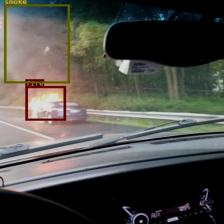fire: (25, 85, 66, 120)
smoke: (4, 4, 69, 83)
